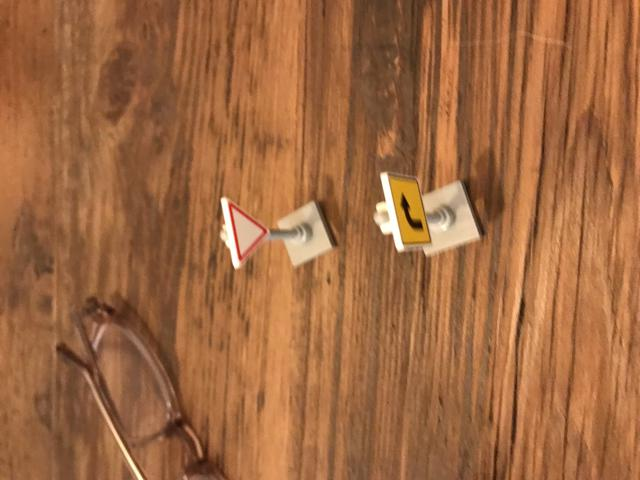fahrtrichtung rechts: (380, 176, 432, 249)
vorfahrt gewähren: (220, 198, 270, 266)
